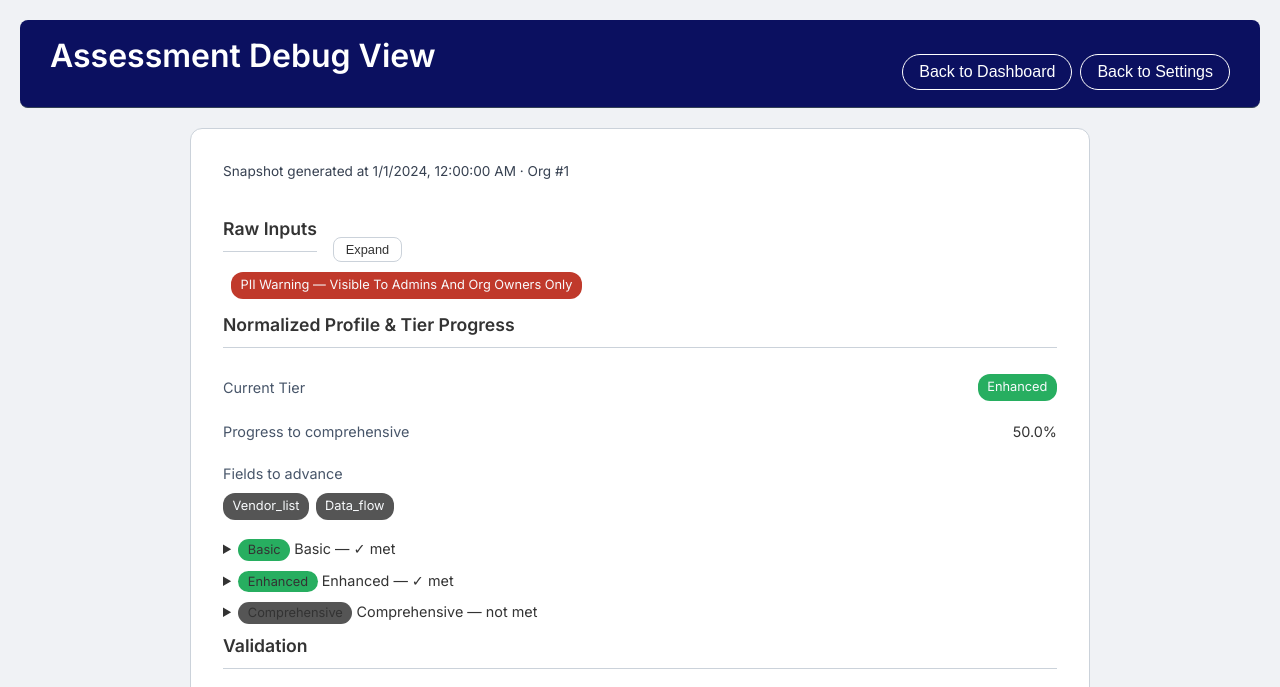
Test: AssessmentDebugPage › Tier Status Display › expands tier details when clicking
The width and height of the screenshot is (1280, 687).
expect the heading "Normalized Profile & Tier Progress" is shown: met, box 223,311 -> 1057,348
What coordinates should you click on to do the following:
click the heading "basic Basic — ✓ met"
I would click on:
 (317, 550)
Its box is 238,539 -> 395,561.
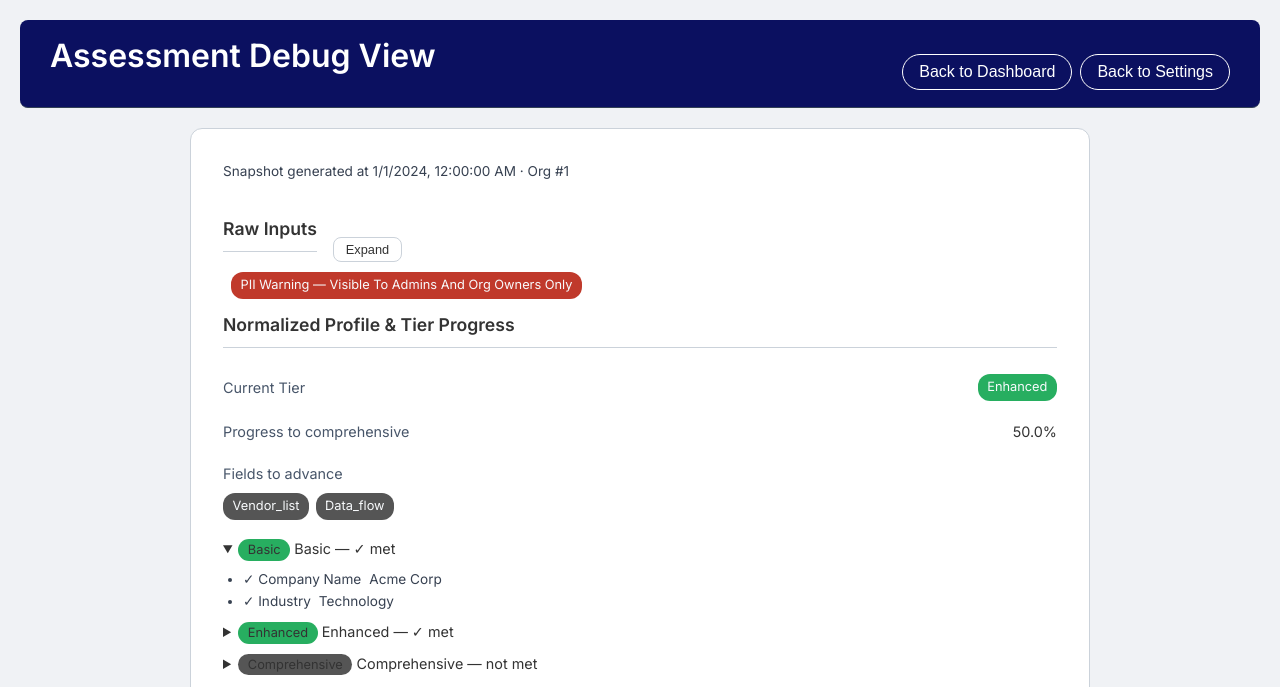
expect the list item "Company Name" is shown: met, box 258,571 -> 361,587
